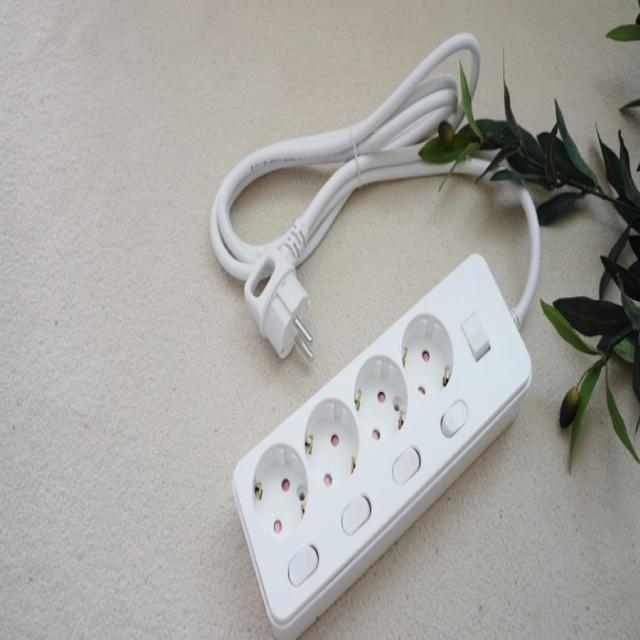typeb: (210, 242, 548, 639)
